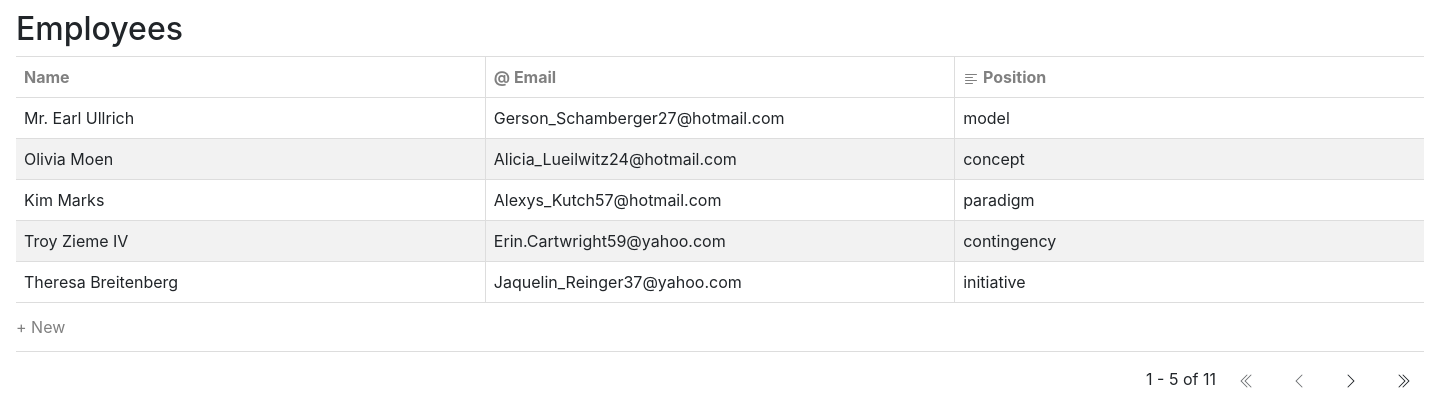
Scenario: Integration test Table › When click Last button
The width and height of the screenshot is (1440, 415).
Expected: the text "Mr. Earl Ullrich" is shown, [16,98,485,139]
Click the button with class "last" at (1403,379), box [1382,360,1424,398]
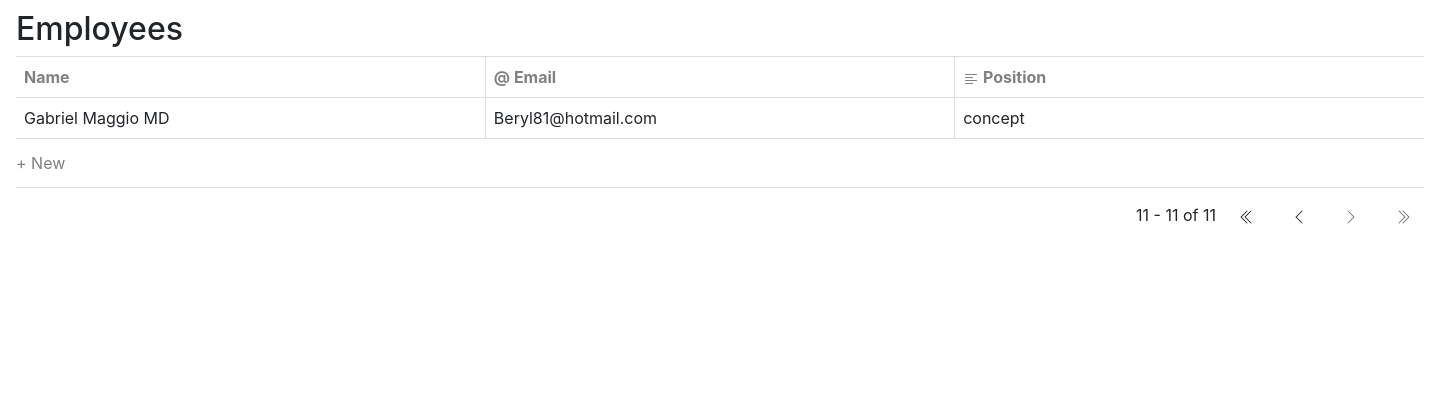
Expected: the text "Gabriel Maggio MD" is shown, [16,98,485,139]
